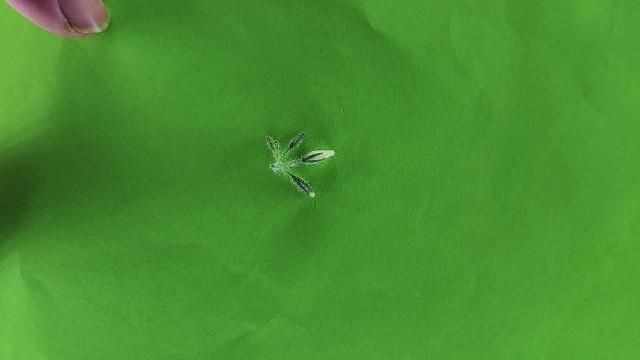Flower Bud: (286, 171, 315, 197), (297, 149, 335, 164), (285, 132, 305, 152), (266, 135, 278, 151)
